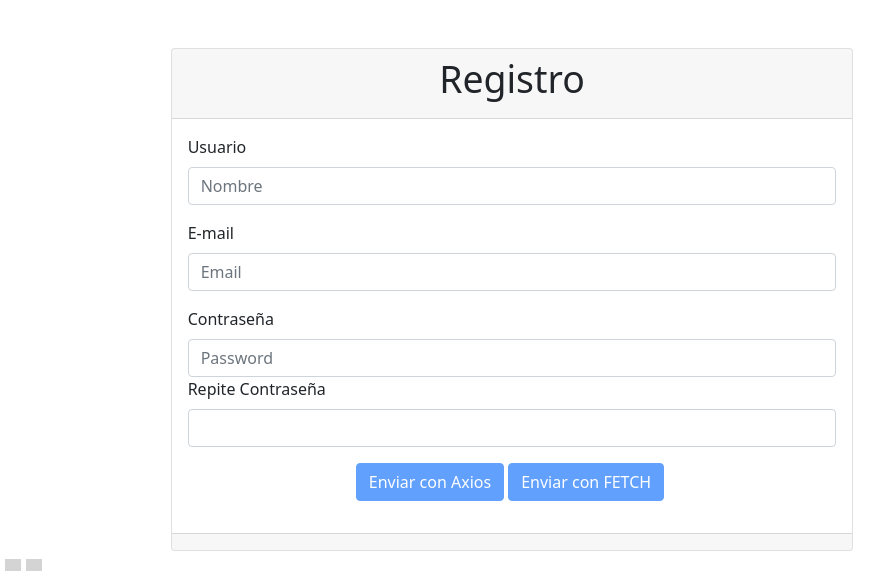
it: Sign Up Page › interactions › should verify that the html form node is hidden when sign up petition is accepted
This screenshot has width=870, height=588.
Type "carlos" into the field with test id "username" at (512, 186), box [188,167,836,205]
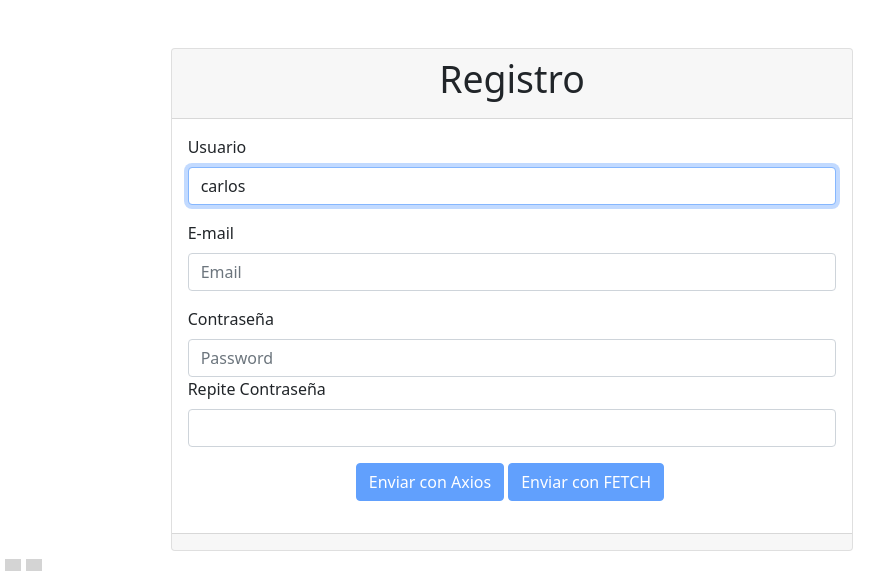
Type "carlos@mail.com" into the field with test id "email" at (512, 272), box [188,253,836,291]
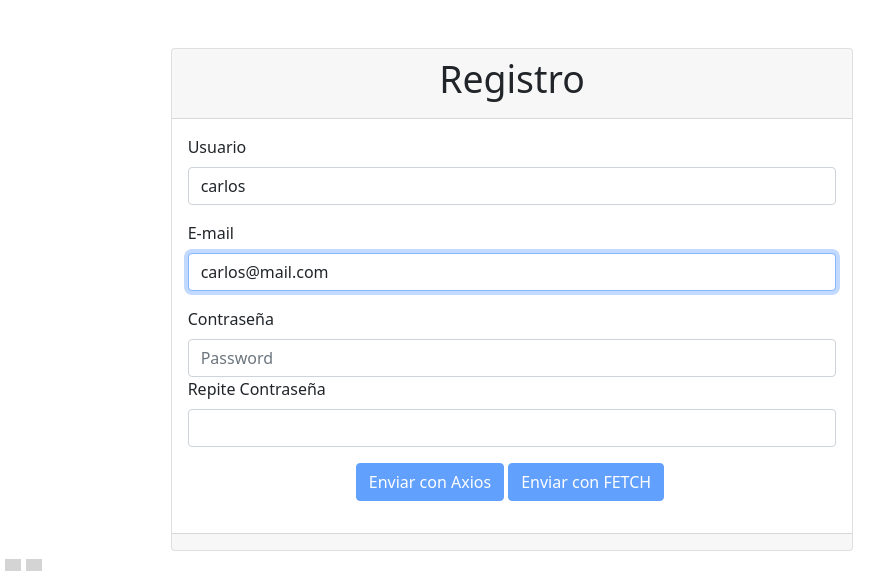
Type "mipass" into the password field with test id "password" at (512, 358), box [188,339,836,377]
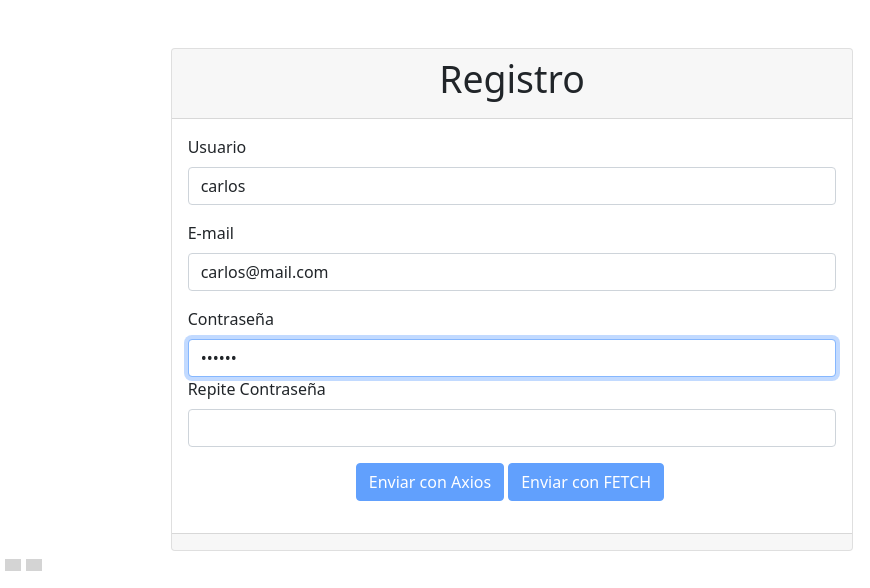
Type "mipass" into the password field with test id "repeatPassword" at (512, 428), box [188,409,836,447]
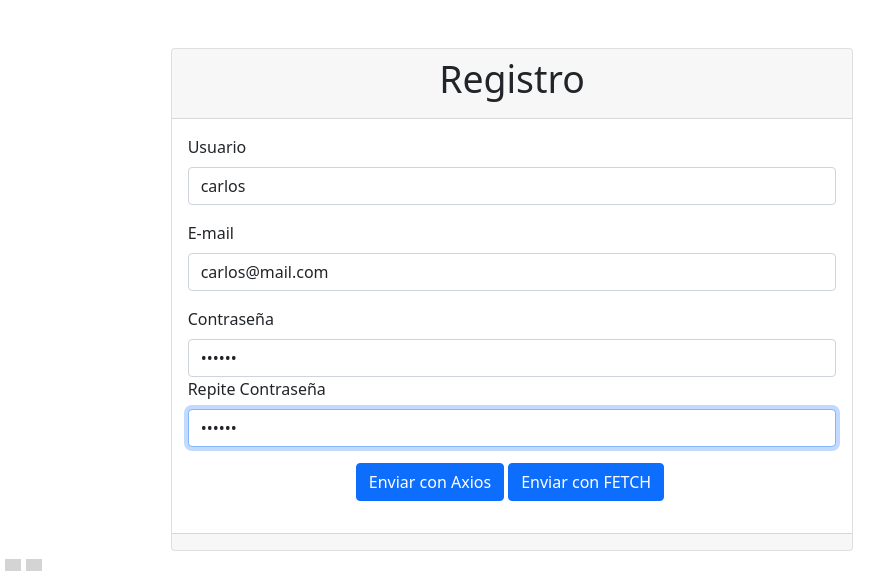
Click the button with test id "sendButton" at (430, 482), box [356,463,504,501]
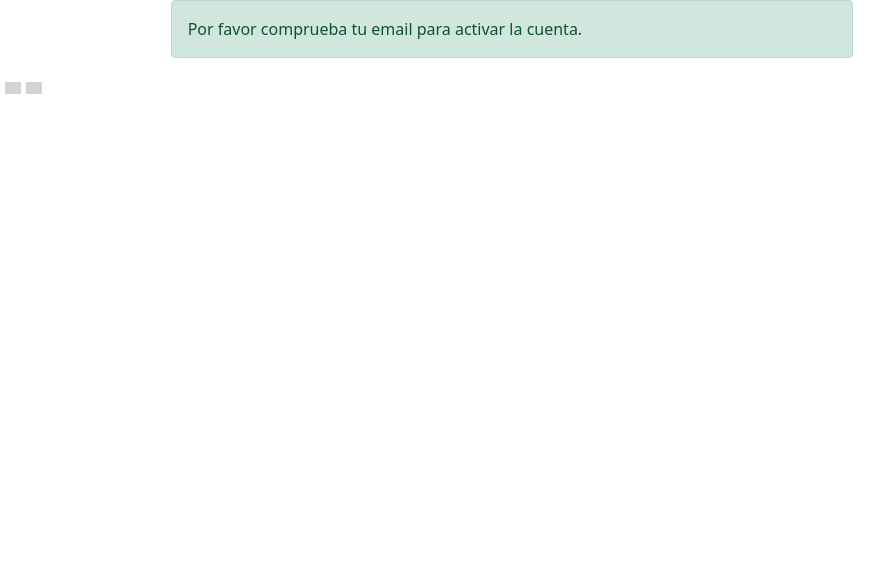
Result: the form with test id "formulario" is gone
Result: the message "Por favor comprueba tu email para activar la cuenta." is shown at [171,0,853,58]
